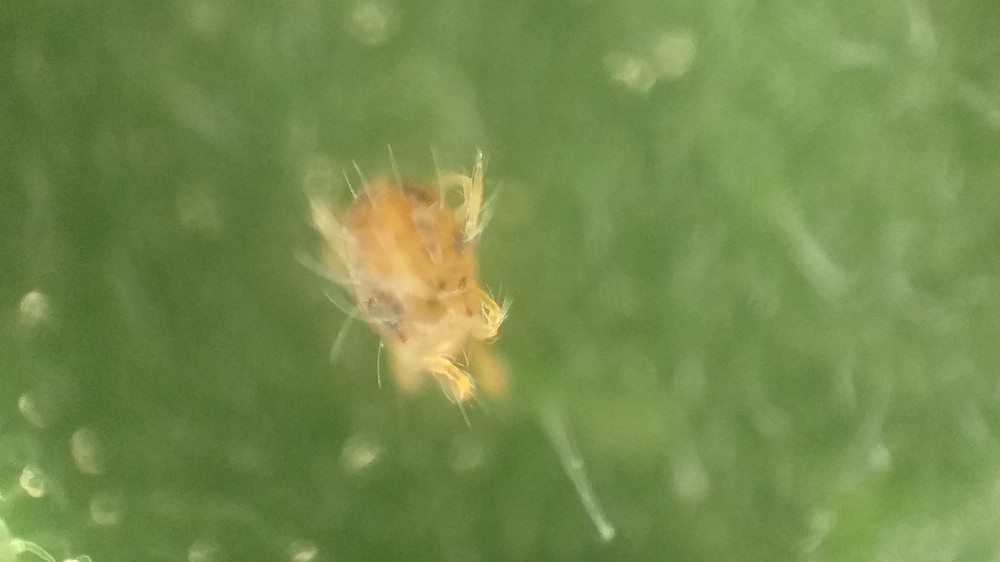Aracnido Rojo: (287, 134, 549, 429)
